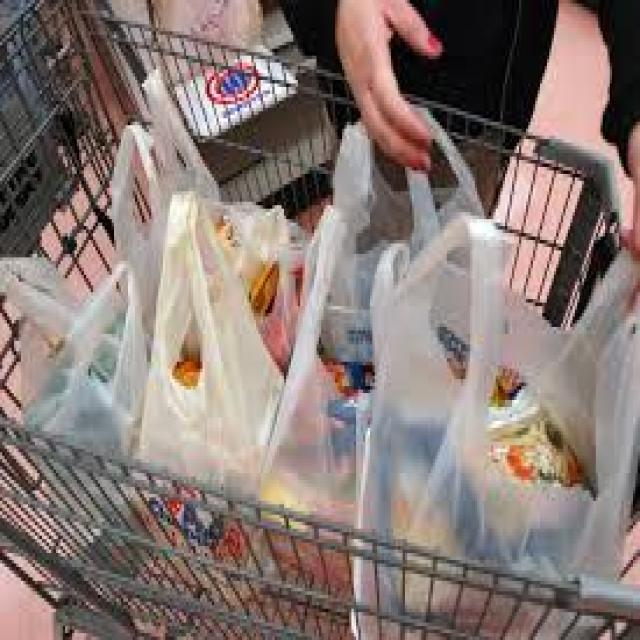plastic: (361, 209, 638, 637), (258, 205, 456, 633), (144, 192, 307, 585), (0, 254, 142, 476), (109, 66, 221, 327), (333, 108, 486, 261)
